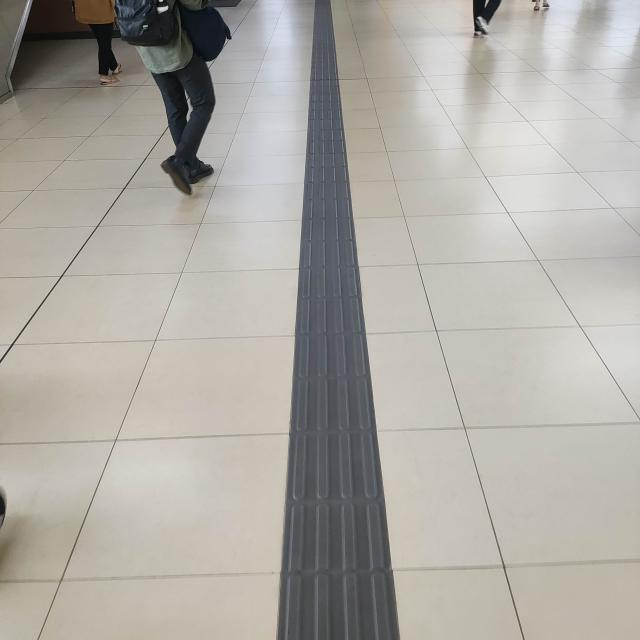lurus: (267, 24, 396, 640)
